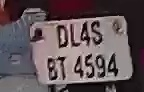4: (78, 21, 91, 47), (71, 57, 84, 80), (107, 55, 119, 76)
5: (84, 53, 94, 80)
9: (94, 55, 108, 79)
B: (45, 56, 57, 83)
D: (54, 25, 70, 50)
L: (67, 23, 81, 49)
S: (90, 20, 105, 47)
T: (57, 55, 70, 81)
